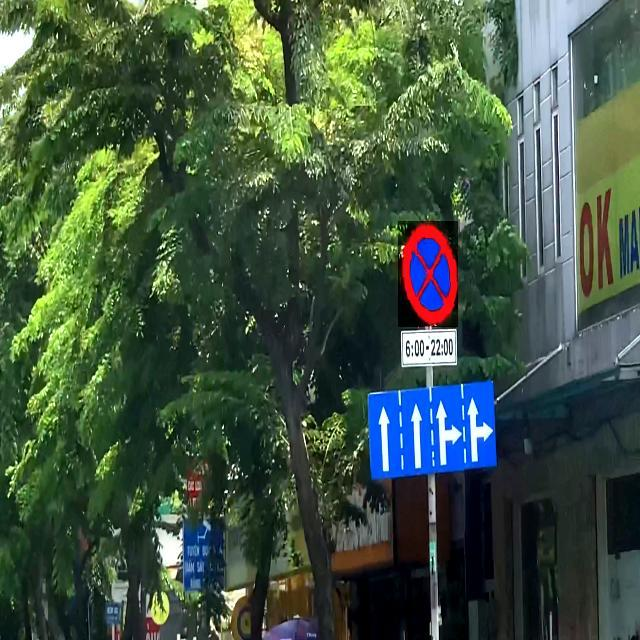P-130: (398, 222, 458, 328)
